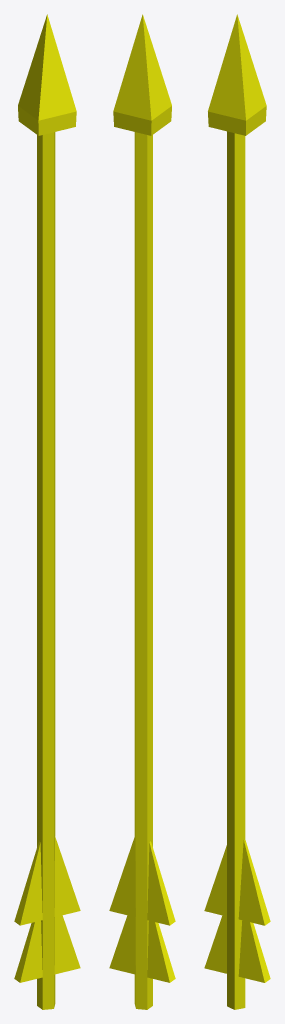
File: _arrow_c_22.glb
3 renders of one model, left to right at view 1: azimuth 30°, elevation 25°; view 2: azimuth 150°, elevation 25°; view 3: azimuth 330°, elevation 25°, orthographic.
Parts seen in each view (by area): view 1: arrow_c_22; view 2: arrow_c_22; view 3: arrow_c_22.
Boxes of the visible parts, box(x1,y1,x2,y2) form: arrow_c_22: box(14, 14, 80, 1009); arrow_c_22: box(109, 14, 175, 1009); arrow_c_22: box(204, 14, 270, 1009).
Size of the model in its own units: 0.0379 by 0.5931 by 0.0224.
1 material, 1 textured.
